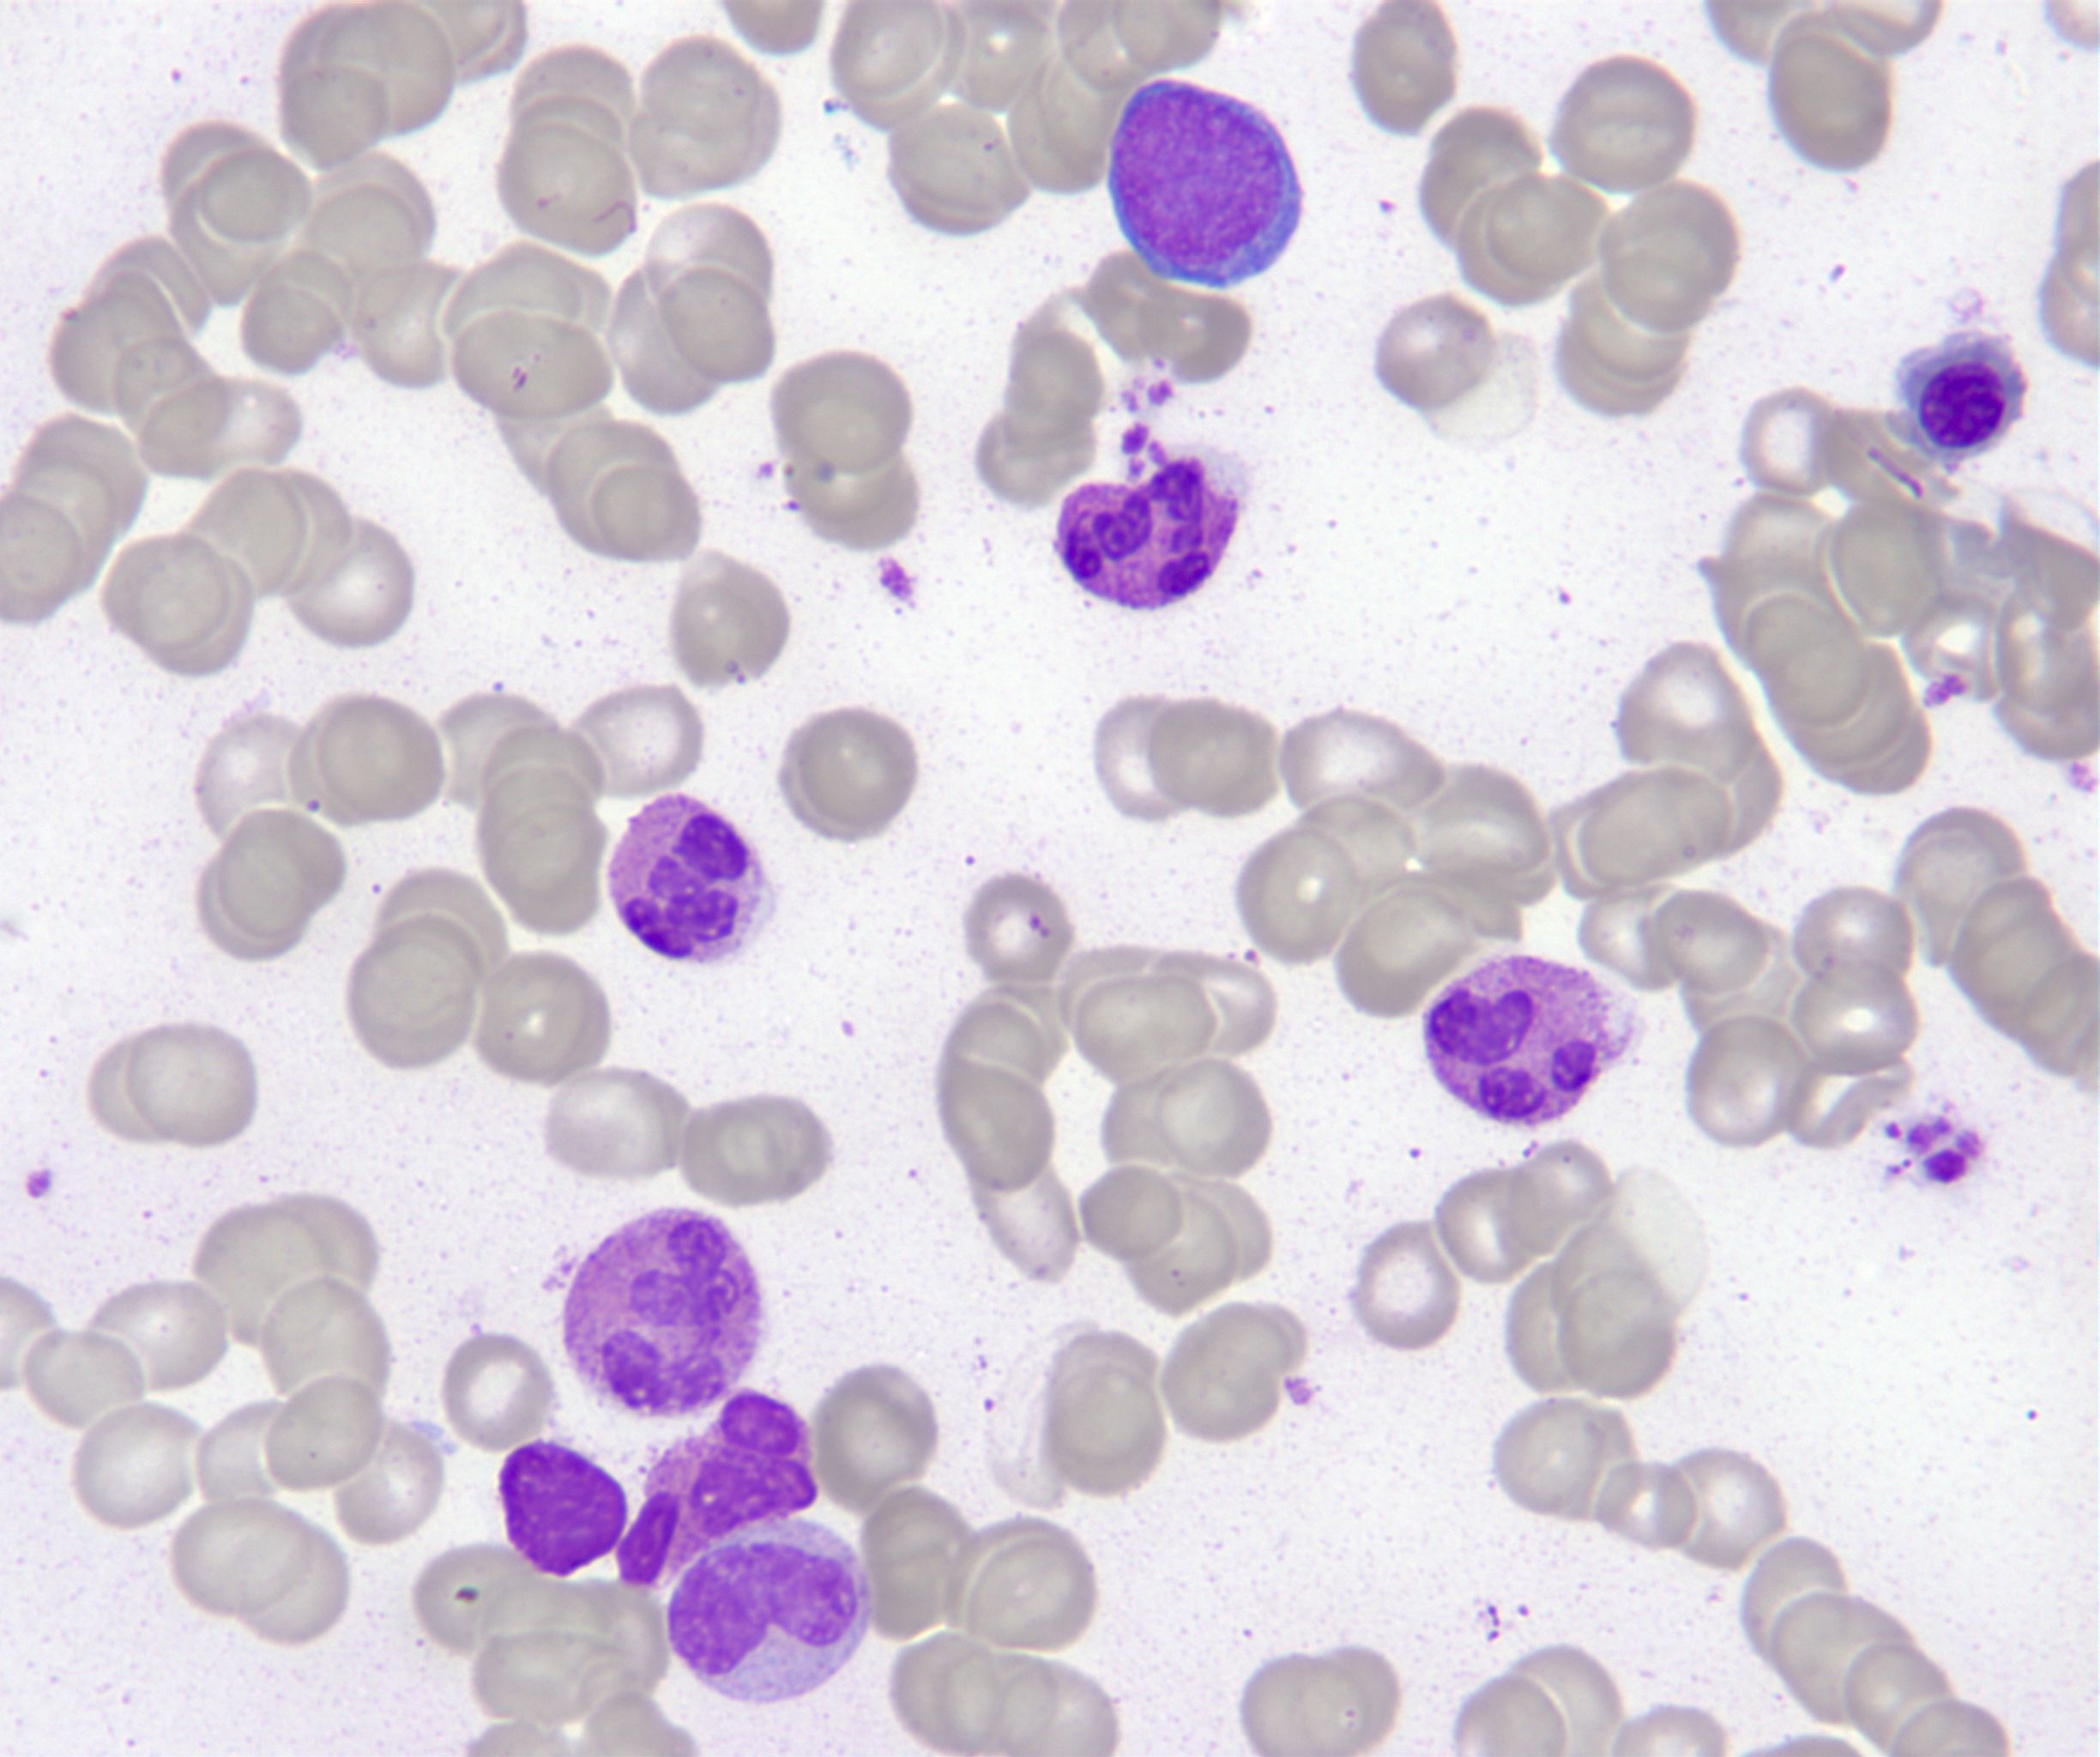1: (1106, 82, 1303, 288)
24: (1887, 332, 2027, 462)
4: (668, 1520, 869, 1705)
6: (563, 1207, 762, 1420), (1423, 954, 1633, 1129), (1052, 459, 1240, 612), (605, 792, 773, 965)
x: (617, 1391, 818, 1588), (501, 1443, 628, 1577)
